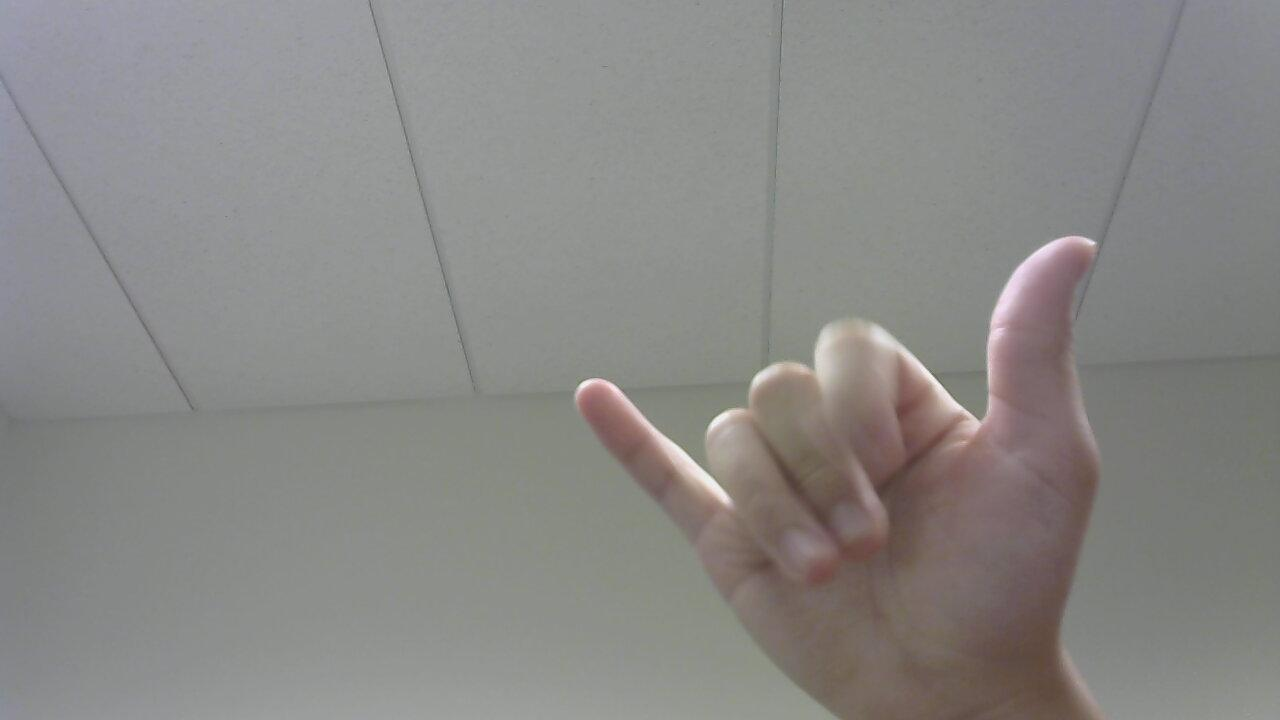hands: (566, 217, 1152, 686)
